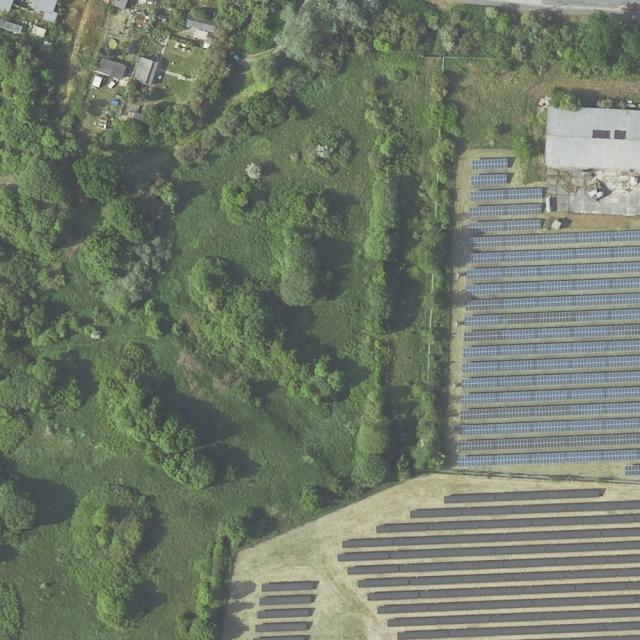PV: (343, 527, 640, 548), (347, 554, 640, 575), (337, 541, 640, 561), (358, 567, 639, 588), (367, 581, 640, 601), (375, 513, 640, 533), (377, 594, 640, 614), (387, 607, 640, 627), (396, 621, 639, 639), (410, 501, 640, 518), (458, 432, 640, 452), (461, 370, 640, 390), (462, 339, 640, 359), (457, 448, 640, 467), (464, 324, 640, 343), (465, 292, 640, 311), (465, 308, 639, 327), (459, 418, 640, 436), (460, 387, 640, 405), (466, 261, 640, 279), (468, 230, 640, 248), (469, 246, 640, 264), (460, 402, 640, 419), (461, 356, 639, 373), (466, 278, 640, 295), (444, 487, 599, 505), (470, 202, 542, 218), (469, 219, 541, 233), (470, 188, 542, 201), (519, 634, 640, 640), (260, 581, 313, 592), (259, 596, 311, 606), (471, 158, 508, 171), (257, 609, 310, 618), (255, 622, 307, 631), (471, 174, 507, 186), (254, 635, 305, 640), (625, 464, 640, 475)
